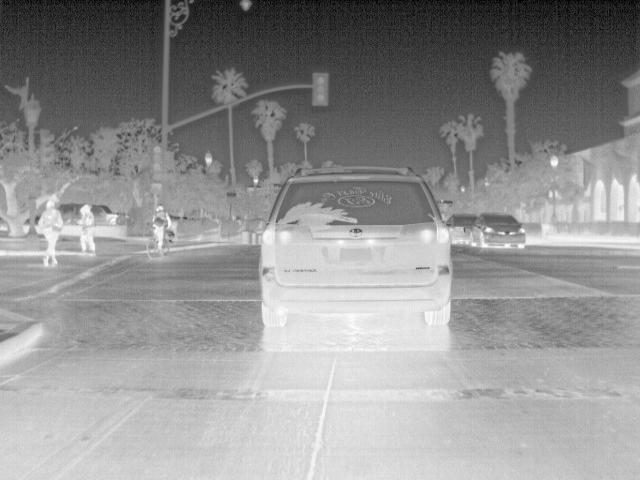car: (256, 163, 455, 329), (472, 213, 530, 248), (446, 214, 478, 246), (91, 205, 120, 225)
person: (37, 198, 65, 269), (75, 204, 95, 254), (153, 206, 171, 256)
